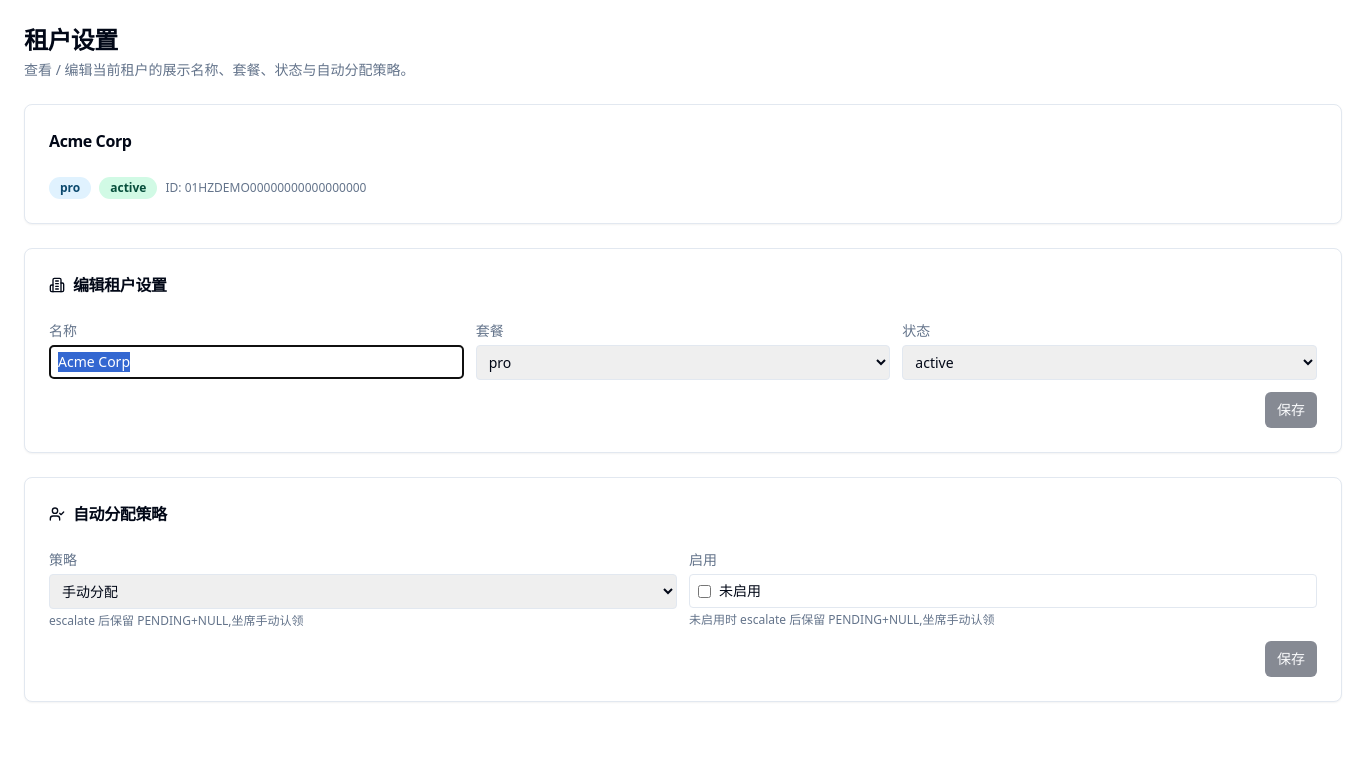
Test case: AdminTenantSettingsPage (Tier 2 Task 2.3) › shows an error message on a failed PATCH
The width and height of the screenshot is (1366, 768).
Type keys "Renamed"
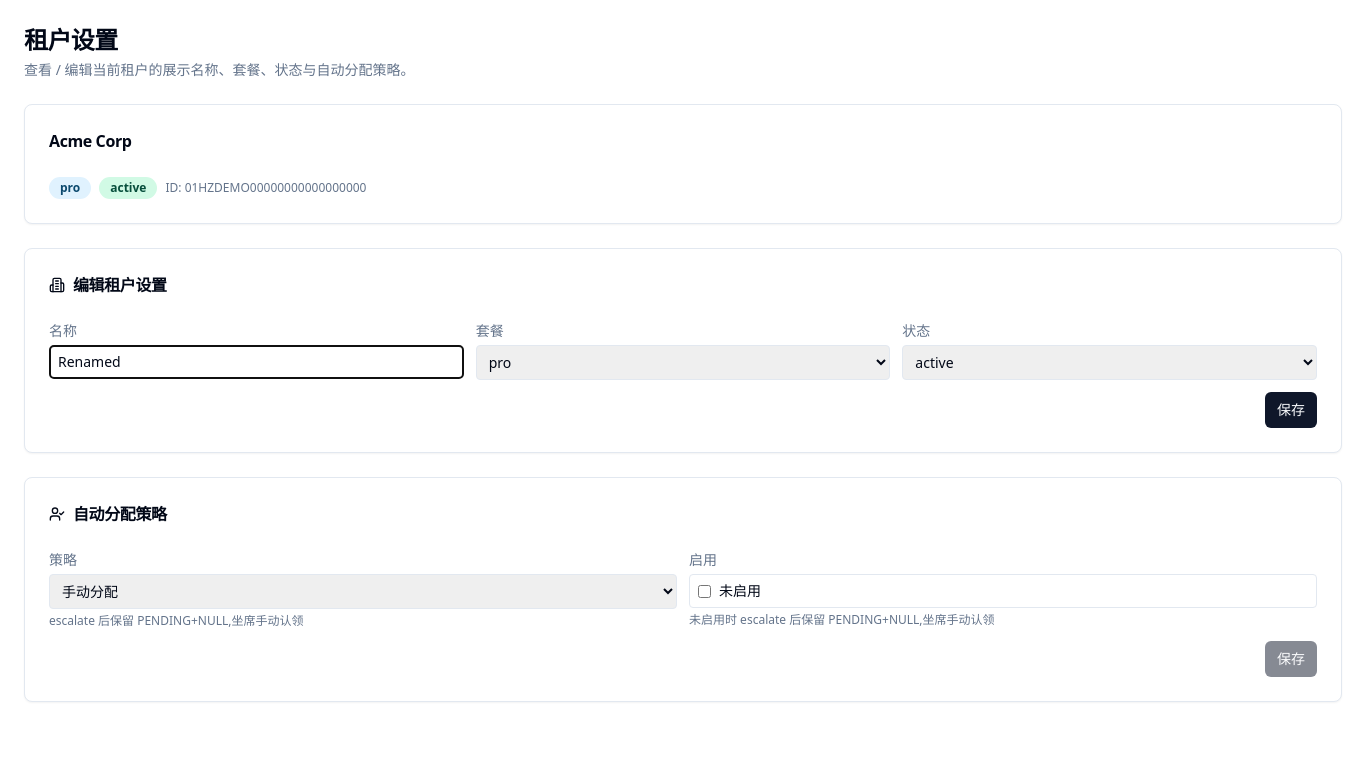
Expected: the button with test id "tenant-settings-save" is enabled
Click the button with test id "tenant-settings-save".
click(1291, 410)  # box left=1265, top=392, right=1317, bottom=428
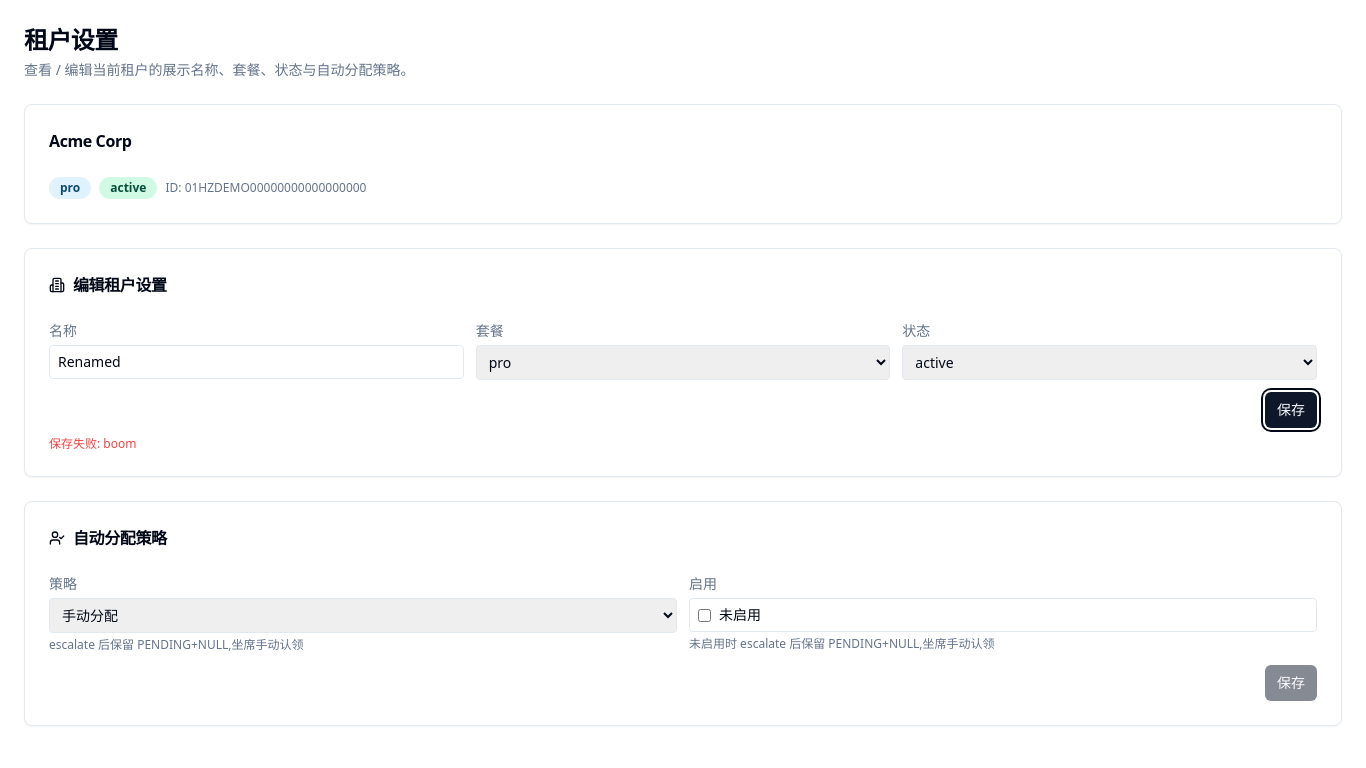
Expected: the message with test id "tenant-settings-error" shows "保存失败", left=49, top=435, right=100, bottom=452
